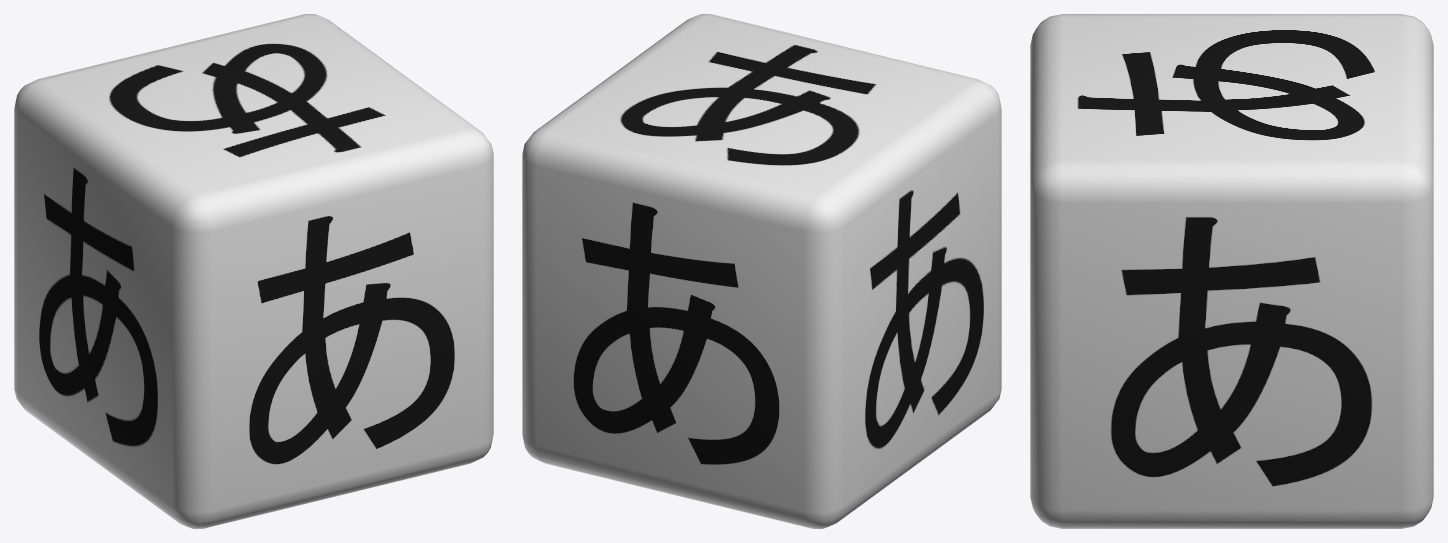
File: Stone.fbx
3 renders of one model, left to right at view 1: azimuth 30°, elevation 25°; view 2: azimuth 150°, elevation 25°; view 3: azimuth 270°, elevation 25°, orthographic. The views are drawn at different scales.
Visible parts, largest first — view 1: Cube; view 2: Cube; view 3: Cube.
Boxes of the visible parts, x1,y1,x2,y2 form: Cube: (14,14,493,528); Cube: (522,14,1001,528); Cube: (1030,14,1433,528).
Bounding box in the file's own units: 200 × 200 × 200.
